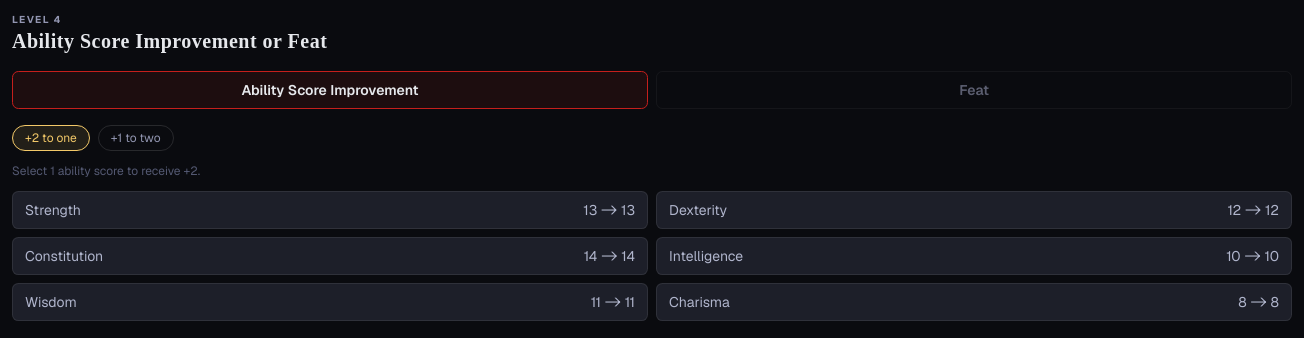
it: AsiOrFeatStep › renders blocked feats with a visible reason
The width and height of the screenshot is (1304, 338).
Click the button "Feat" at (974, 90), box [656, 71, 1292, 109]
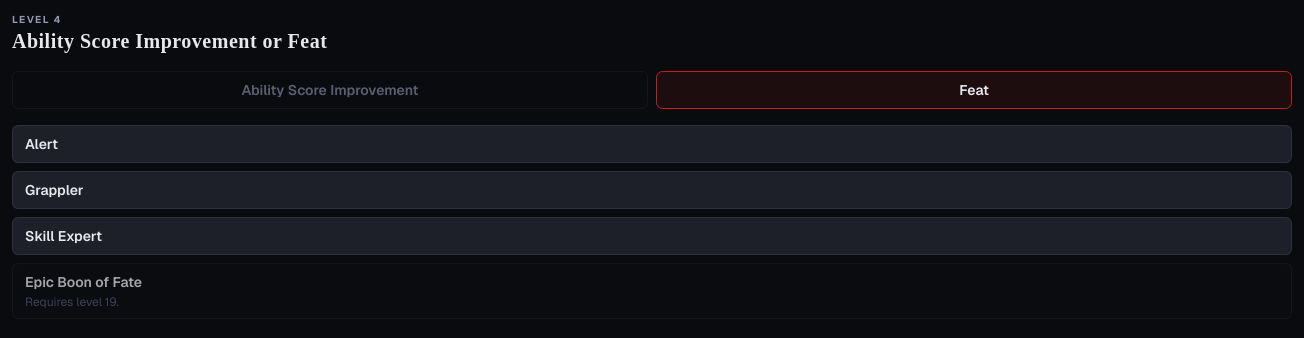
Result: the text "Epic Boon of Fate" is shown at [25, 273, 142, 291]
Result: the text "Requires level 19." is shown at [25, 294, 119, 310]
